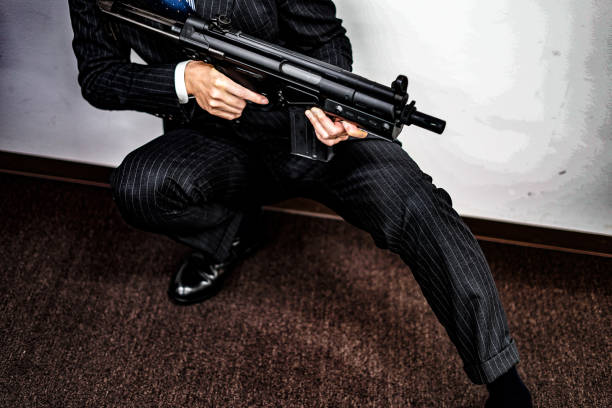gun: (96, 0, 447, 161)
